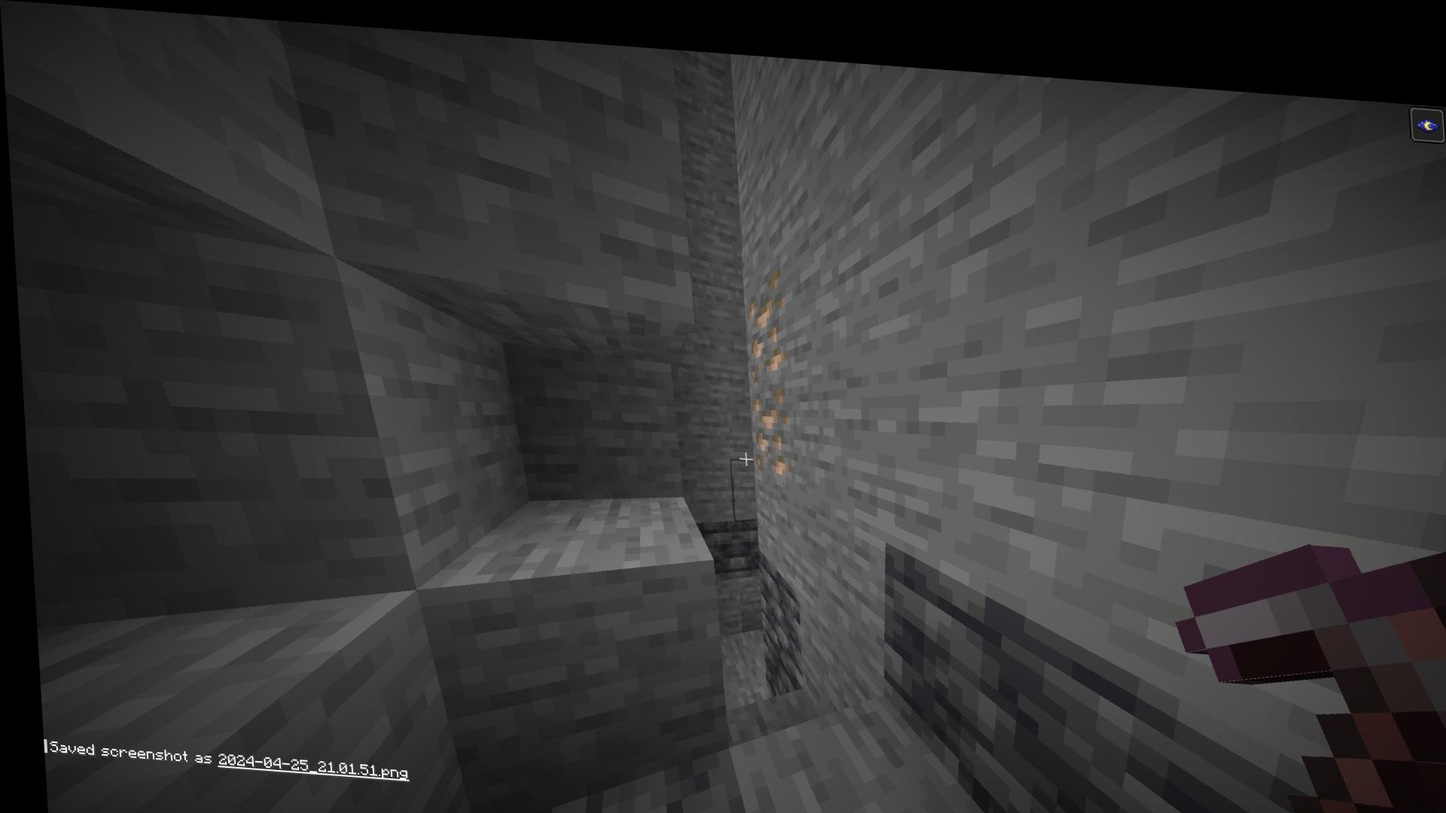iron ore: (744, 259, 787, 371), (746, 376, 789, 463)
